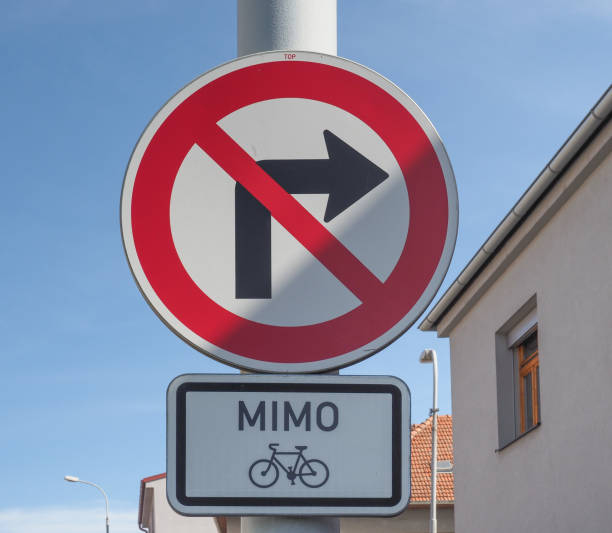saga_girilmez: (116, 48, 456, 377)
